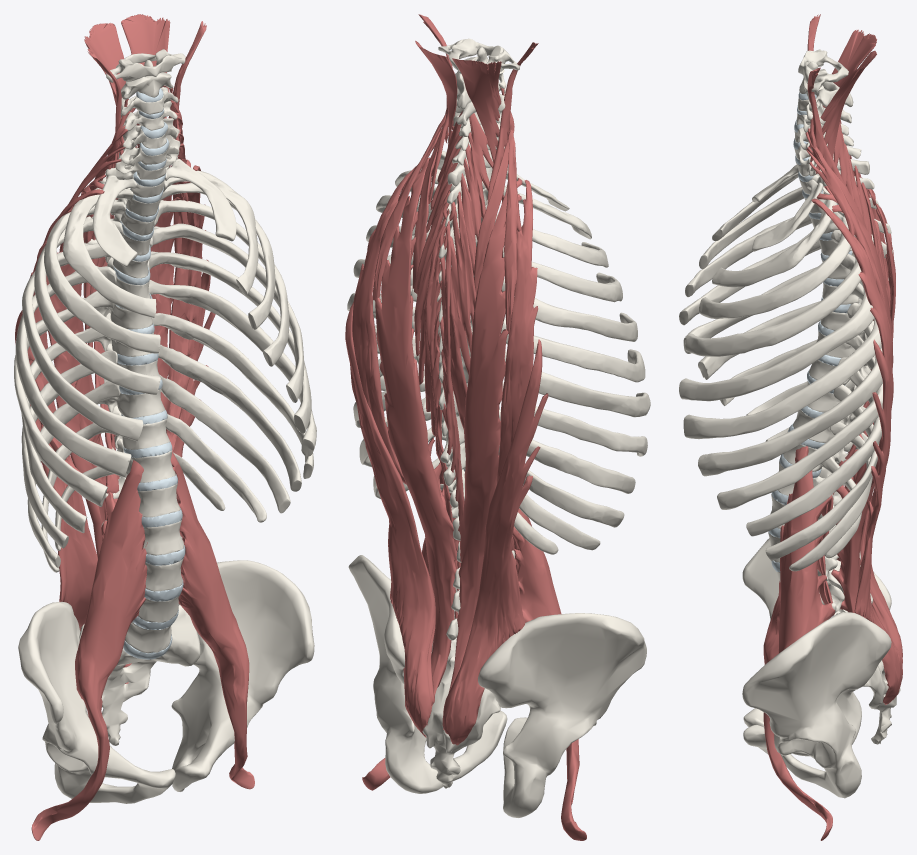
File: spine.c736a6aa70.glb
3 views of the same model, side by side, from view 1: azimuth 30°, elevation 25°; view 2: azimuth 150°, elevation 25°; view 3: azimuth 270°, elevation 25° (orthographic). The views are drawn at different scales.
Parts seen in each view (by area): view 1: left_hip_bone, right_psoas_major, right_hip_bone, left_psoas_major, sacrum, right_sixth_rib, right_fourth_rib, right_fifth_rib, right_iliocostalis_lumborum, right_third_rib, right_second_rib, left_ninth_rib (+46 smaller); view 2: right_hip_bone, left_longissimus_thoracis, right_longissimus_thoracis, right_iliocostalis_lumborum, left_iliocostalis_lumborum, left_hip_bone, right_iliocostalis_thoracis, left_iliocostalis_thoracis, right_semispinalis_thoracis, right_psoas_major, sacrum, left_semispinalis_thoracis (+26 smaller); view 3: left_hip_bone, left_psoas_major, left_sixth_rib, left_iliocostalis_lumborum, left_fifth_rib, left_seventh_rib, left_fourth_rib, left_eighth_rib, left_third_rib, left_ninth_rib, right_hip_bone, left_longissimus_thoracis (+33 smaller).
Part boxes in pixels (bbox=[...]): left_hip_bone: bbox=[171, 560, 314, 791]; right_psoas_major: bbox=[31, 460, 147, 840]; right_hip_bone: bbox=[18, 601, 175, 803]; left_psoas_major: bbox=[170, 452, 254, 789]; sacrum: bbox=[79, 605, 200, 745]; right_sixth_rib: bbox=[15, 266, 131, 477]; right_fourth_rib: bbox=[34, 216, 160, 394]; right_fifth_rib: bbox=[22, 243, 143, 441]; right_iliocostalis_lumborum: bbox=[15, 310, 97, 630]; right_third_rib: bbox=[44, 201, 160, 353]; right_second_rib: bbox=[63, 183, 156, 317]; left_ninth_rib: bbox=[158, 344, 301, 491]; right_hip_bone: bbox=[478, 613, 646, 817]; left_longissimus_thoracis: bbox=[375, 158, 456, 707]; right_longissimus_thoracis: bbox=[448, 178, 522, 692]; right_iliocostalis_lumborum: bbox=[442, 339, 548, 745]; left_iliocostalis_lumborum: bbox=[345, 302, 435, 737]; left_hip_bone: bbox=[348, 555, 507, 793]; right_iliocostalis_thoracis: bbox=[497, 180, 538, 483]; left_iliocostalis_thoracis: bbox=[352, 157, 430, 484]; right_semispinalis_thoracis: bbox=[449, 191, 476, 429]; right_psoas_major: bbox=[512, 508, 586, 840]; sacrum: bbox=[422, 637, 500, 788]; left_semispinalis_thoracis: bbox=[414, 189, 450, 462]; left_hip_bone: bbox=[742, 612, 891, 798]; left_psoas_major: bbox=[763, 446, 835, 840]; left_sixth_rib: bbox=[683, 283, 881, 439]; left_iliocostalis_lumborum: bbox=[854, 339, 902, 704]; left_fifth_rib: bbox=[679, 254, 874, 401]; left_seventh_rib: bbox=[698, 303, 882, 476]; left_fourth_rib: bbox=[685, 230, 861, 356]; left_eighth_rib: bbox=[717, 335, 882, 509]; left_third_rib: bbox=[699, 211, 850, 318]; left_ninth_rib: bbox=[746, 357, 881, 536]; right_hip_bone: bbox=[742, 538, 891, 756]; left_longissimus_thoracis: bbox=[816, 186, 893, 617].
Bounding box in the file's own units: 0.2896 × 0.7647 × 0.2068.
